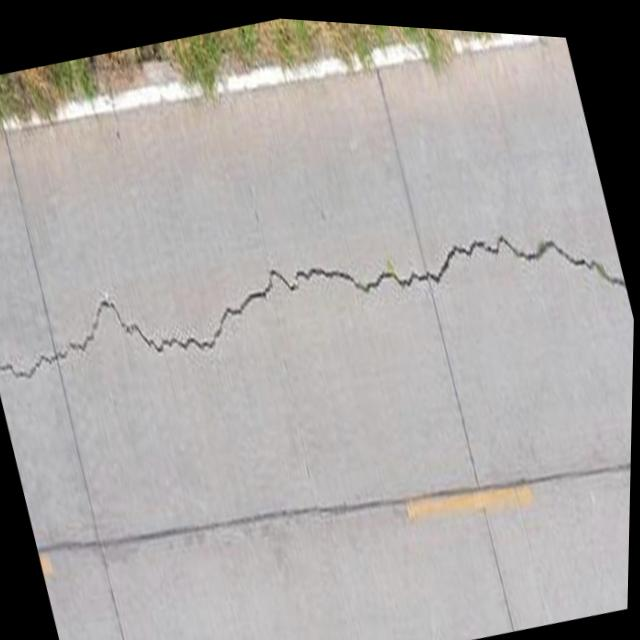Crack: (0, 130, 636, 470)
